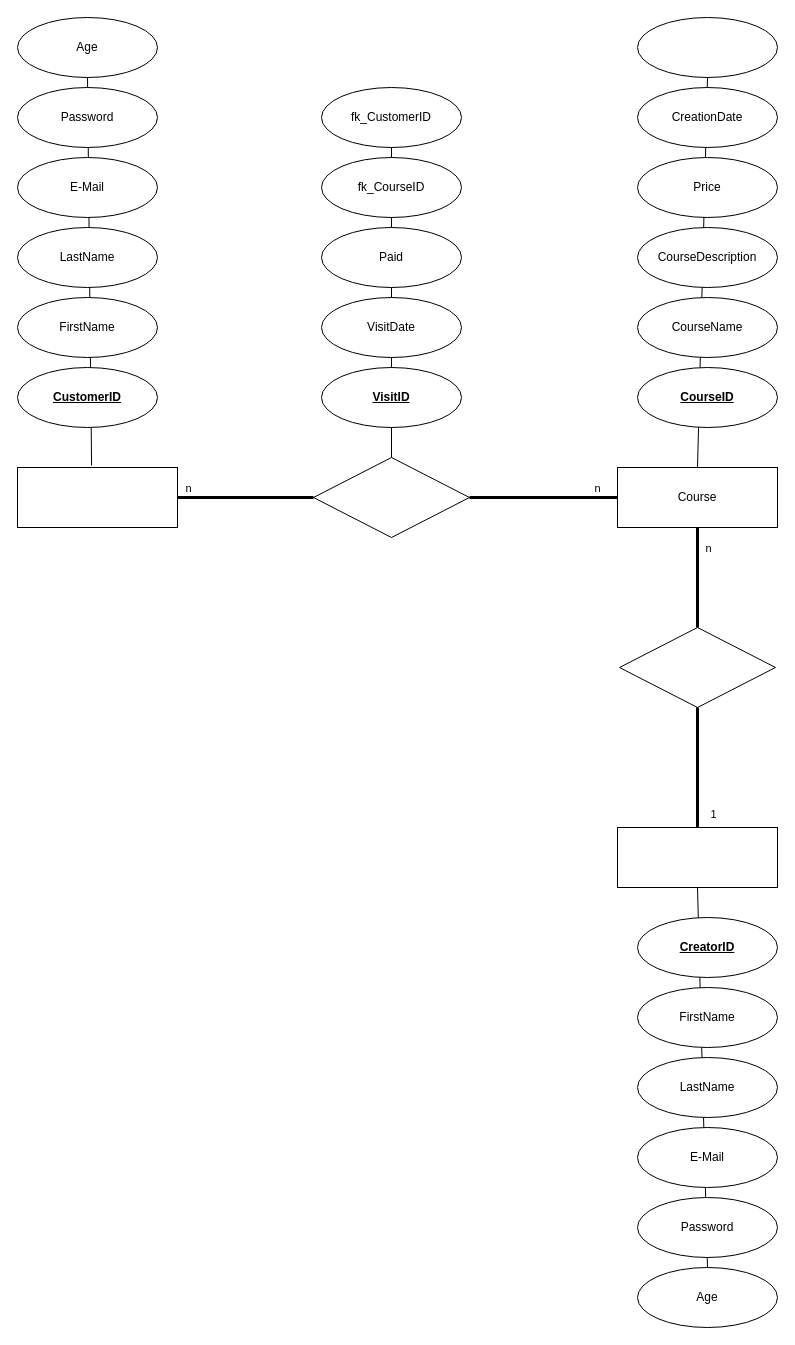
This 795x1345 diagram has some shape labels left out. Each missing label, with the centre of its shape:
create: (x=697, y=667)
Creator: (x=697, y=857)
Customer: (x=97, y=497)
Fk_CreatorID: (x=707, y=47)
visit: (x=391, y=497)
